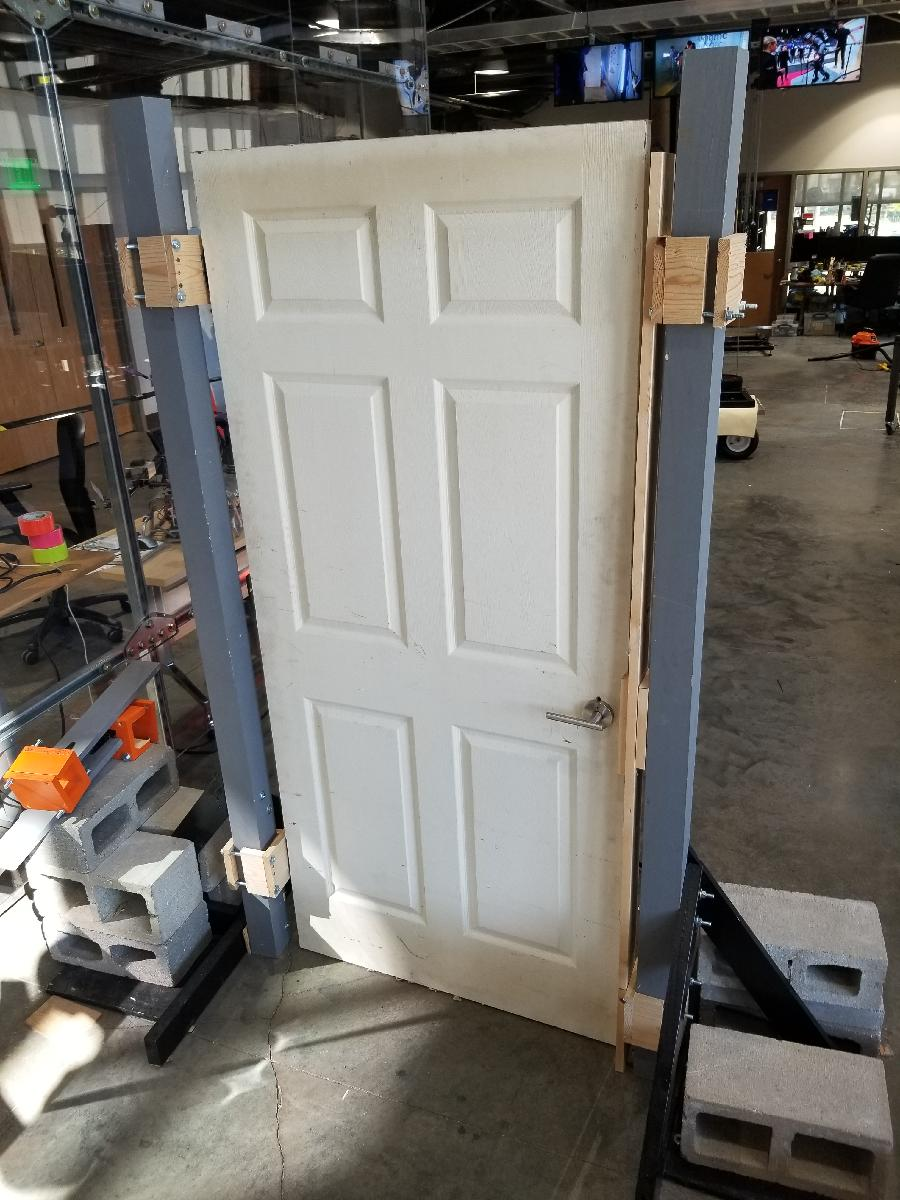door: (187, 113, 653, 1058)
doorHandle: (536, 693, 616, 741)
